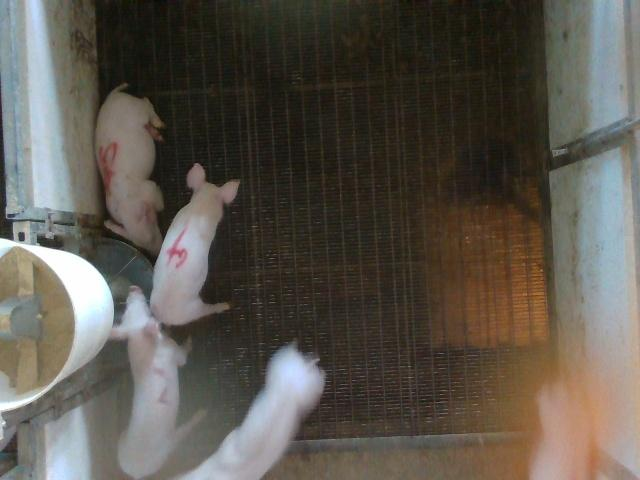pig-2: (110, 286, 186, 478)
pig-4: (150, 164, 239, 324)
pig-5: (95, 84, 164, 255)
